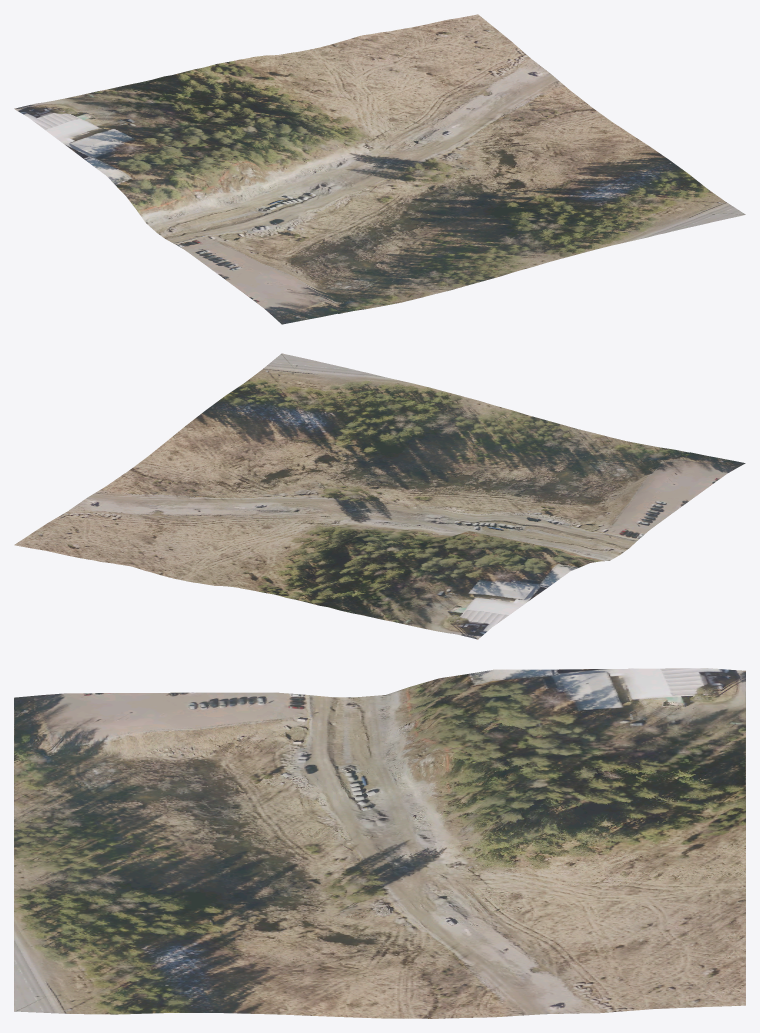
File: CM_Terrain_24490868_6821841.fbx
3 views of the same model, one above another, from view 1: azimuth 30°, elevation 25°; view 2: azimuth 150°, elevation 25°; view 3: azimuth 270°, elevation 25° (orthographic). The views are drawn at different scales.
Visible parts, largest first — view 1: CM_Terrain_24490868_6821841_LOD0; view 2: CM_Terrain_24490868_6821841_LOD0; view 3: CM_Terrain_24490868_6821841_LOD0.
Boxes of the visible parts, bbox=[...] form: CM_Terrain_24490868_6821841_LOD0: bbox=[14, 14, 745, 324]; CM_Terrain_24490868_6821841_LOD0: bbox=[14, 353, 745, 639]; CM_Terrain_24490868_6821841_LOD0: bbox=[14, 668, 745, 1018].
Size of what is drawn, in the model's own units: 205 by 12.86 by 205.
